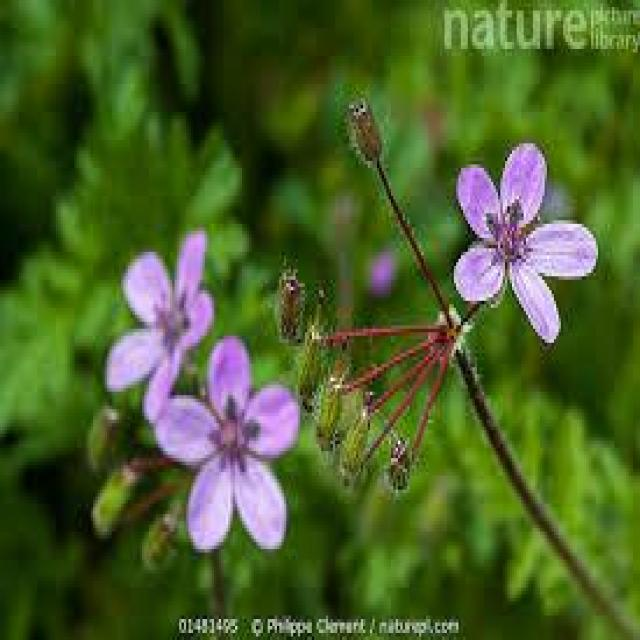organic waste: (157, 327, 301, 565), (444, 138, 600, 338), (97, 220, 220, 417)
